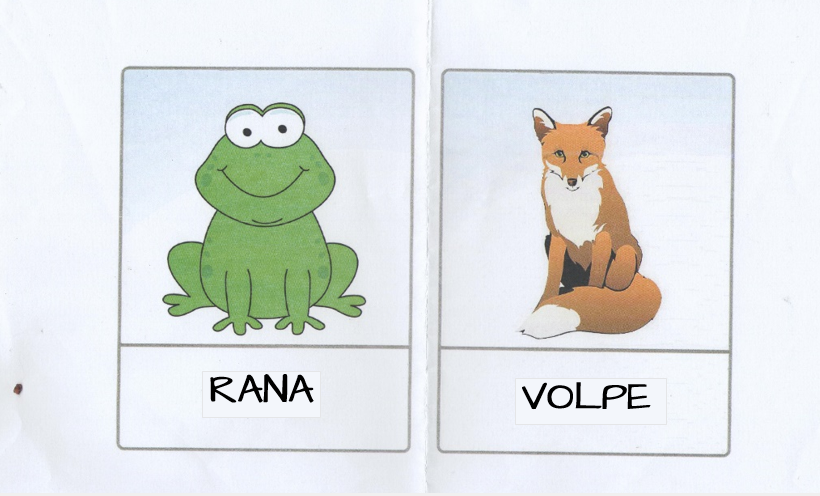rana: (140, 79, 395, 430)
volpe: (465, 84, 699, 435)
